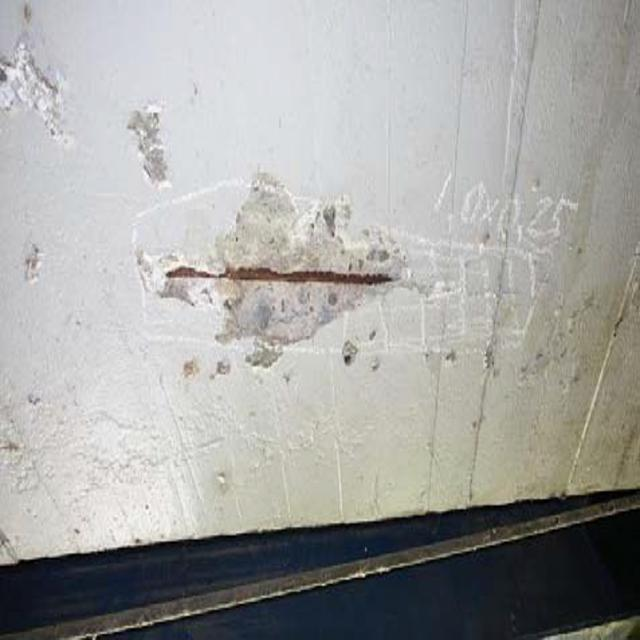spalling: (113, 126, 403, 354)
